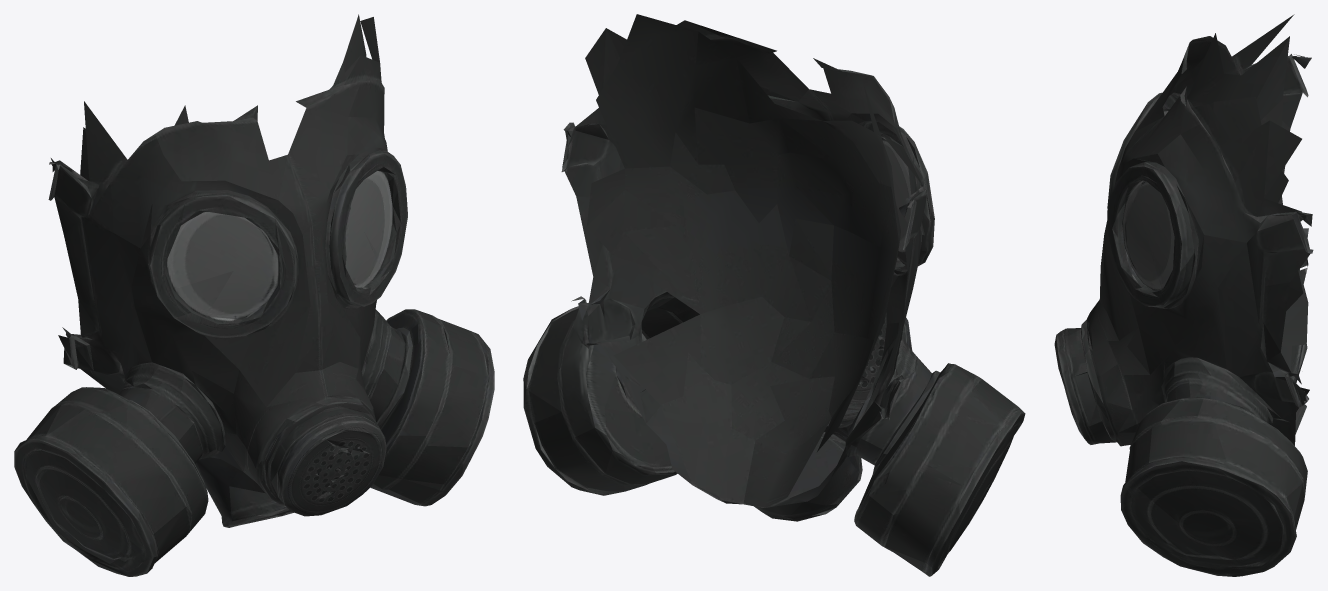
The model's file is warden_mask.glb.
3 views of the same model, side by side, from view 1: azimuth 30°, elevation 25°; view 2: azimuth 150°, elevation 25°; view 3: azimuth 270°, elevation 25° (orthographic). The views are drawn at different scales.
Parts seen in each view (by area): view 1: warden_mask; view 2: warden_mask; view 3: warden_mask.
Boxes of the visible parts, x1,y1,x2,y2 form: warden_mask: (14,14,494,576); warden_mask: (523,14,1025,576); warden_mask: (1054,14,1313,576).
Bounding box in the file's own units: 0.2125 × 0.2215 × 0.112.
1 material, 1 textured.
